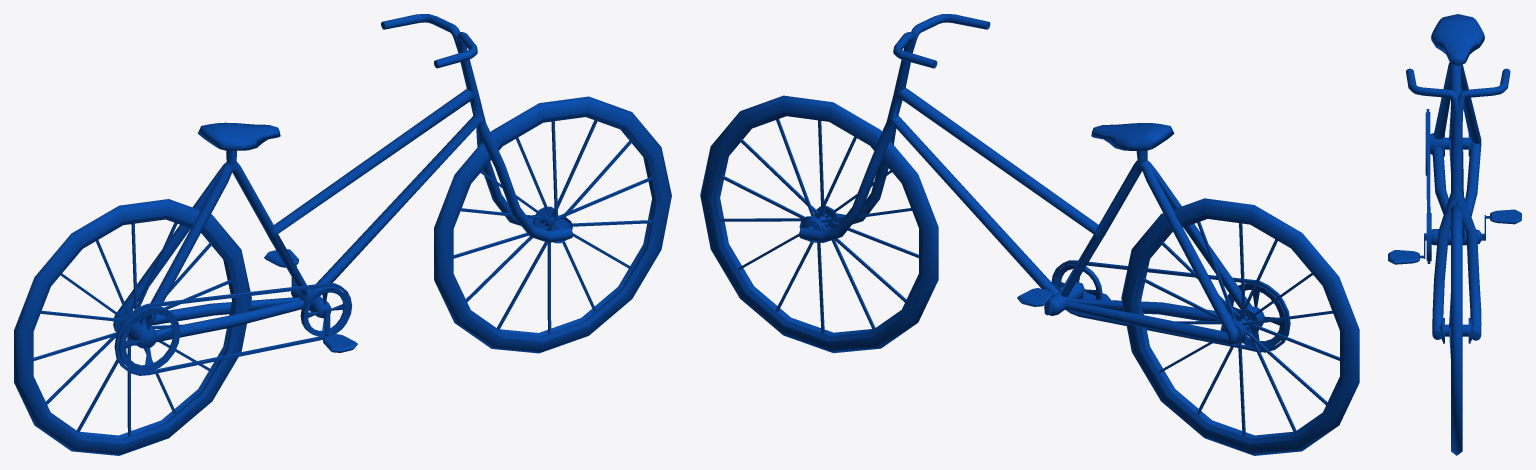
The model's file is Bike_1.fbx.
3 renders of one model, left to right at view 1: azimuth 30°, elevation 25°; view 2: azimuth 150°, elevation 25°; view 3: azimuth 270°, elevation 25°, orthographic. The views are drawn at different scales.
Visible parts, largest first — view 1: Bike_1; view 2: Bike_1; view 3: Bike_1.
Boxes of the visible parts, x1=… form: Bike_1: x1=14, y1=14, x2=671, y2=455; Bike_1: x1=700, y1=14, x2=1359, y2=455; Bike_1: x1=1388, y1=14, x2=1521, y2=455.
Size of the model in its own units: 245 by 122 by 47.29.
